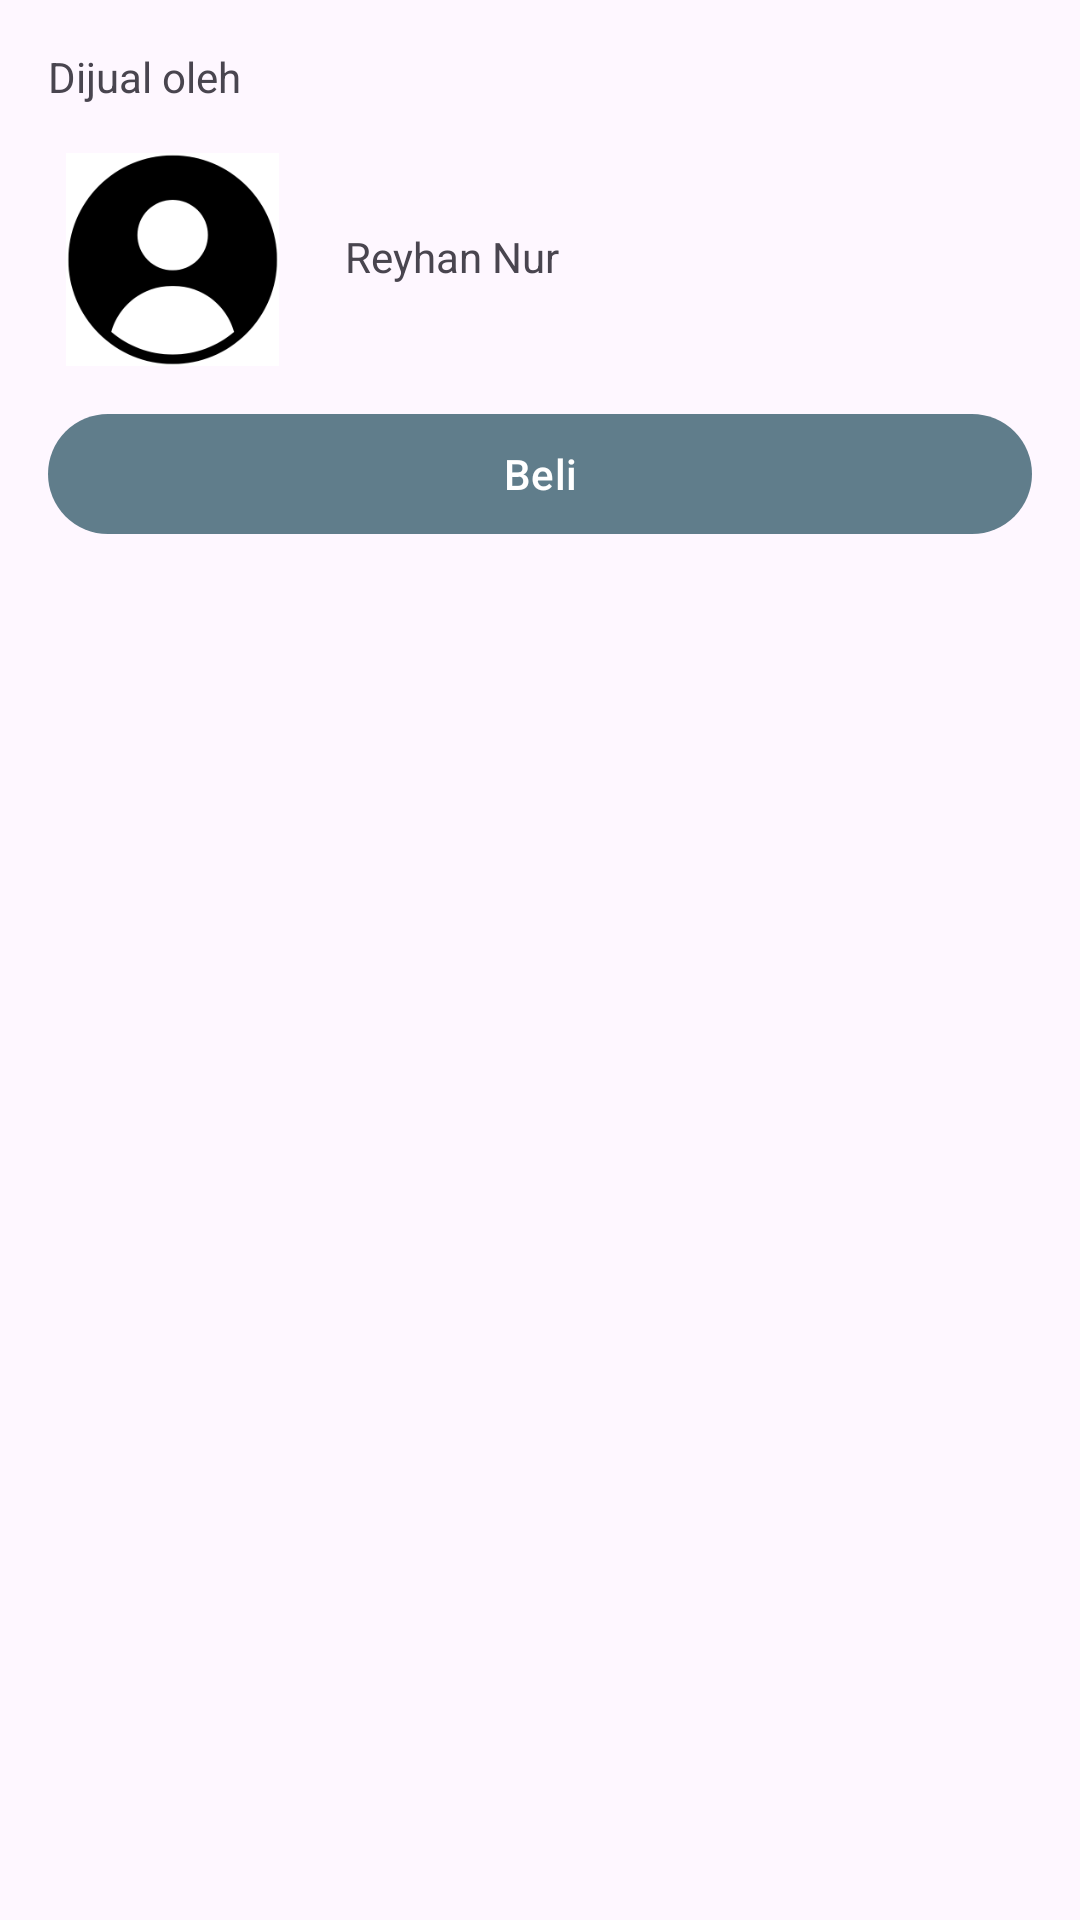

Screen size 1080px×1920px. Icon name, then its center in pixels as (x,y):
user square: (173,260)
